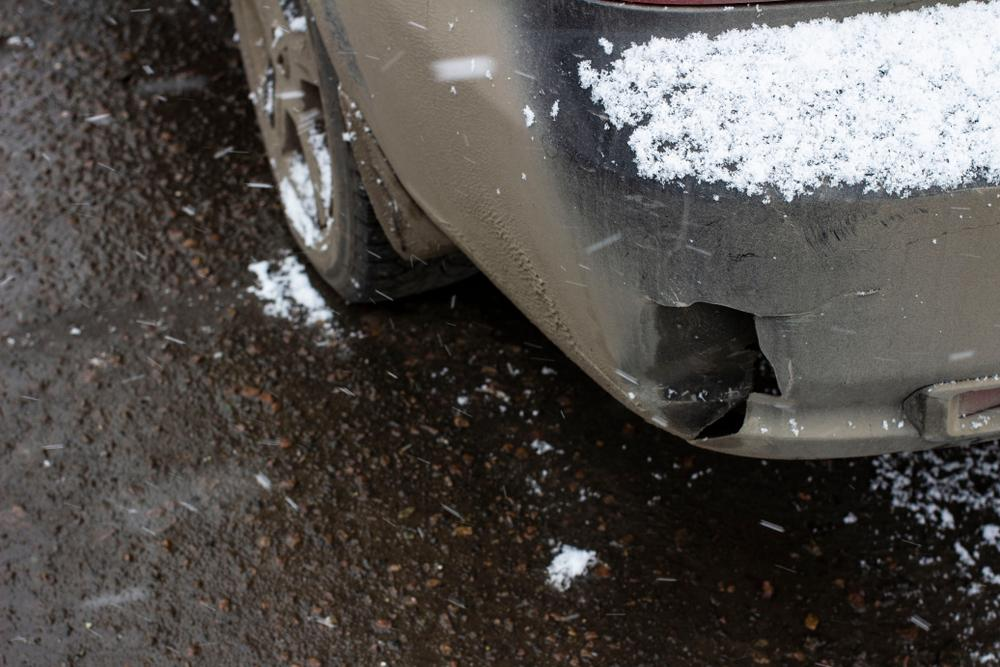crack: (643, 295, 791, 446)
